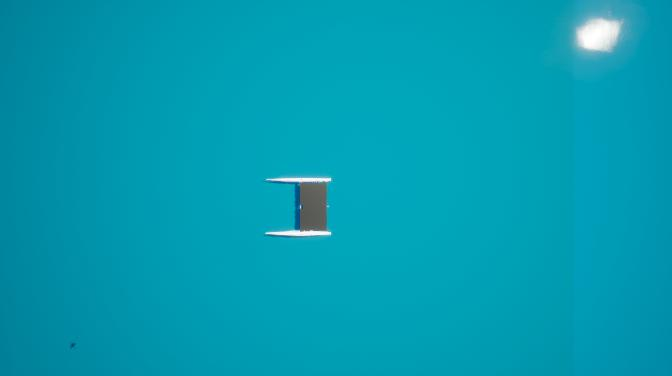boat: (266, 176, 333, 240)
drone: (69, 340, 77, 351)
land_base: (301, 184, 327, 231)
light_reflex: (564, 4, 641, 67)
